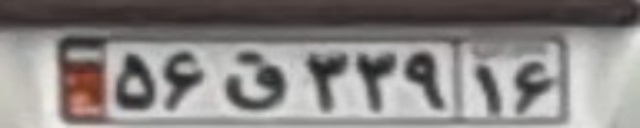1: (474, 65, 502, 113)
3: (307, 50, 349, 112), (358, 50, 396, 112)
5: (115, 53, 153, 109)
6: (163, 51, 206, 109), (507, 62, 554, 113)
9: (402, 50, 445, 109)
ghaf: (224, 53, 287, 109)
